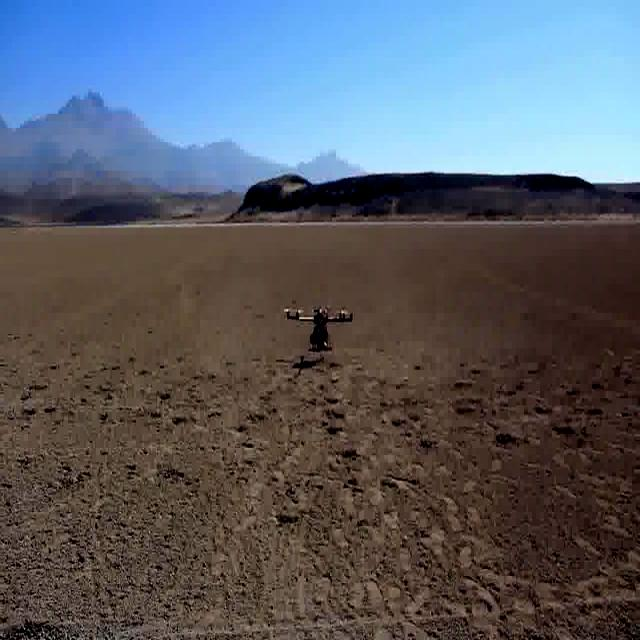drone: (282, 296, 356, 359)
